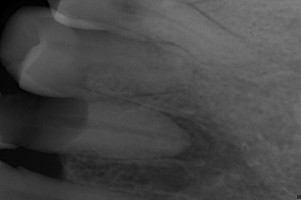Furcation Involvement: (160, 110, 220, 161)
